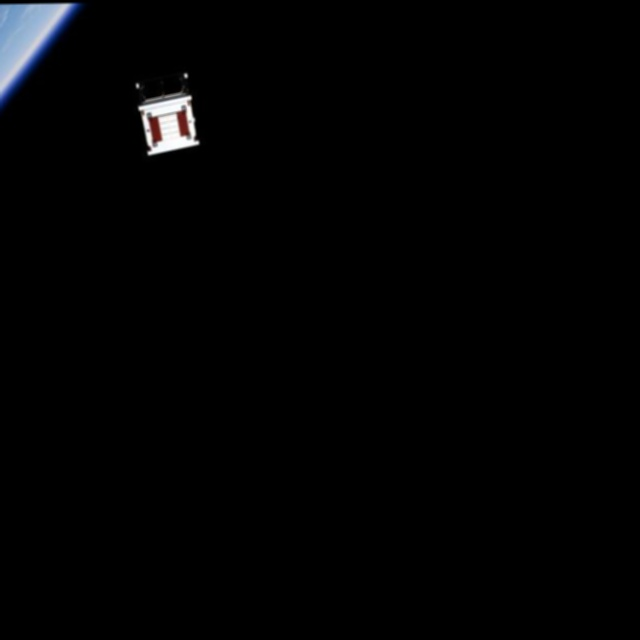medium_debris: (129, 66, 210, 165)
